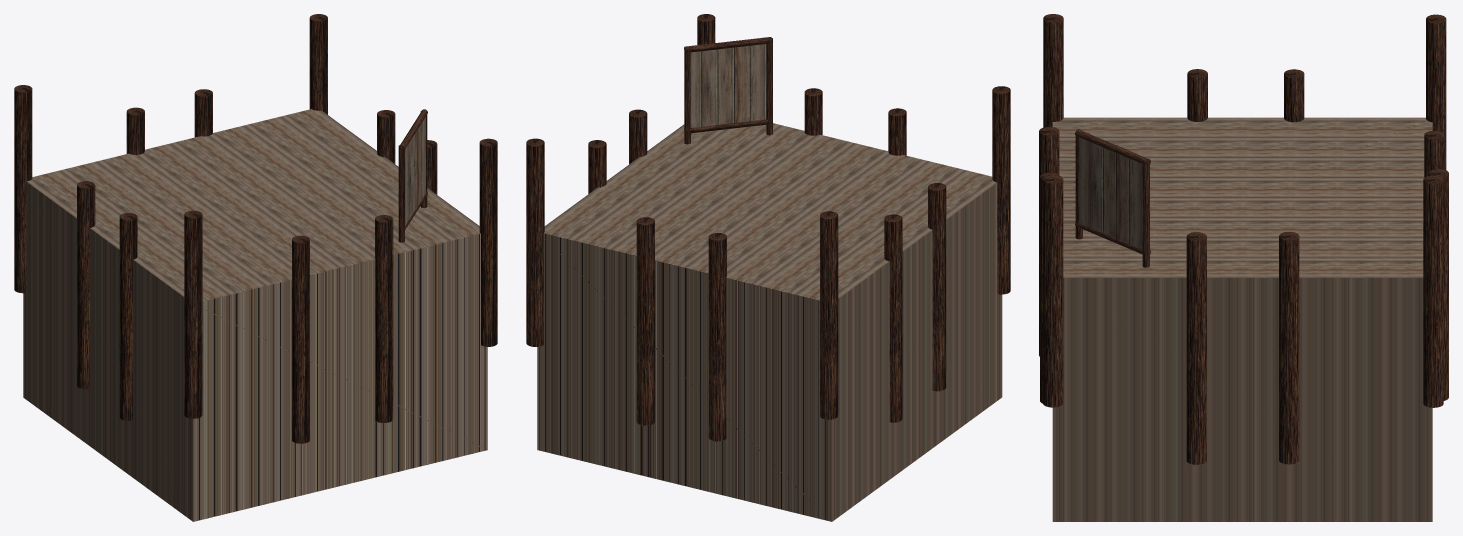
The model's file is grass.fbx.
The picture shows the model from 3 angles, left to right: view 1: azimuth 30°, elevation 25°; view 2: azimuth 150°, elevation 25°; view 3: azimuth 270°, elevation 25°; orthographic projection. The views are drawn at different scales.
Parts seen in each view (by area): view 1: Box57, Cylinder1, Cylinder6, Cylinder7, Cylinder, Cylinder2, Cylinder8, Cylinder9, Cylinder3, Box55, Cylinder4, Cylinder11 (+3 smaller); view 2: Box57, Box55, Cylinder11, Cylinder2, Cylinder10, Cylinder3, Cylinder1, Cylinder8, Cylinder9, Cylinder5, Cylinder4, Cylinder7 (+5 smaller); view 3: Box57, Box55, Cylinder3, Cylinder5, Cylinder4, Cylinder, Cylinder2, Cylinder1, Cylinder11, Cylinder7, Cylinder9, Cylinder8 (+4 smaller).
Boxes of the visible parts, x1,y1,x2,y2 form: Box57: [23, 109, 487, 521]; Cylinder1: [184, 210, 202, 418]; Cylinder6: [375, 215, 393, 422]; Cylinder7: [292, 235, 309, 443]; Cylinder: [479, 138, 497, 346]; Cylinder2: [14, 85, 32, 293]; Cylinder8: [119, 212, 137, 420]; Cylinder9: [77, 181, 95, 389]; Cylinder3: [309, 14, 327, 114]; Box55: [405, 117, 425, 225]; Cylinder4: [377, 110, 395, 163]; Cylinder11: [194, 89, 212, 137]; Box57: [537, 123, 1002, 521]; Box55: [690, 44, 766, 127]; Cylinder11: [636, 217, 654, 425]; Cylinder2: [820, 211, 838, 419]; Cylinder10: [708, 233, 726, 441]; Cylinder3: [526, 138, 544, 346]; Cylinder1: [992, 86, 1010, 294]; Cylinder8: [928, 183, 946, 391]; Cylinder9: [884, 214, 902, 422]; Cylinder5: [629, 109, 647, 164]; Cylinder4: [588, 140, 606, 193]; Cylinder7: [888, 108, 906, 155]; Box57: [1052, 117, 1432, 521]; Box55: [1078, 137, 1142, 249]; Cylinder3: [1423, 175, 1443, 407]; Cylinder5: [1186, 232, 1206, 464]; Cylinder4: [1279, 232, 1299, 464]; Cylinder: [1043, 175, 1063, 407]; Cylinder2: [1426, 14, 1446, 169]; Cylinder1: [1043, 14, 1063, 127]; Cylinder11: [1428, 169, 1448, 400]; Cylinder7: [1039, 127, 1059, 356]; Cylinder9: [1284, 69, 1304, 122]; Cylinder8: [1187, 69, 1207, 121].
Bounding box in the file's own units: 4.2 × 4.01 × 4.24.
Materials: 2 (2 with a texture image).
